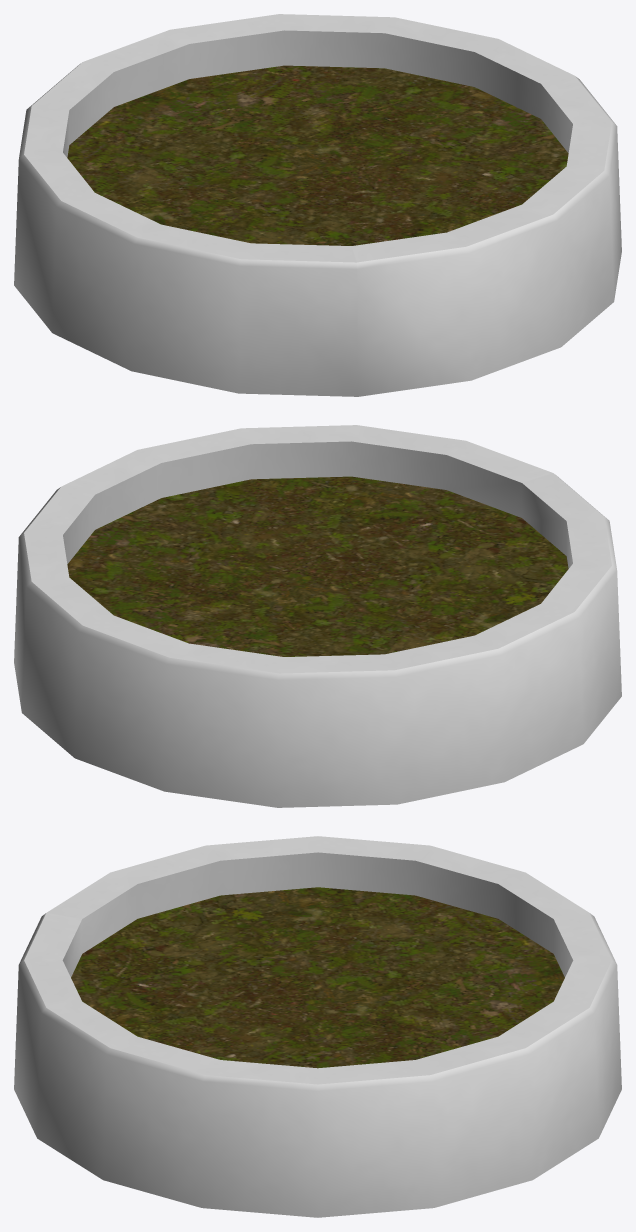
Rendered from nc_tree_15.fbx.
3 views of the same model, one above another, from view 1: azimuth 30°, elevation 25°; view 2: azimuth 150°, elevation 25°; view 3: azimuth 270°, elevation 25° (orthographic).
Visible parts, largest first — view 1: nc_tree_15_LOD0; view 2: nc_tree_15_LOD0; view 3: nc_tree_15_LOD0.
Part boxes in pixels (x1,y1,x2,y2): nc_tree_15_LOD0: [14, 14, 621, 396]; nc_tree_15_LOD0: [14, 425, 621, 807]; nc_tree_15_LOD0: [14, 836, 621, 1217].
Size of what is drawn, in the model's own units: 0.9993 by 0.234 by 0.9993.
Materials: 1 (1 with a texture image).
